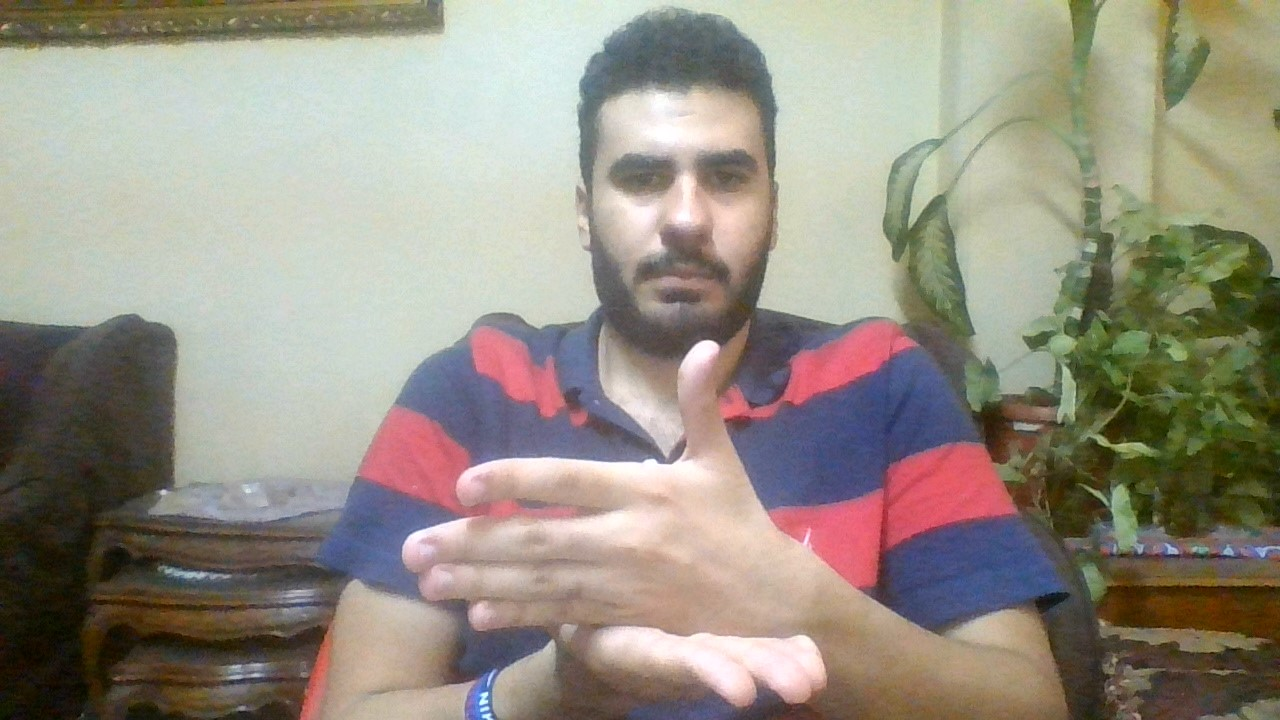stop: (420, 335, 835, 720)
